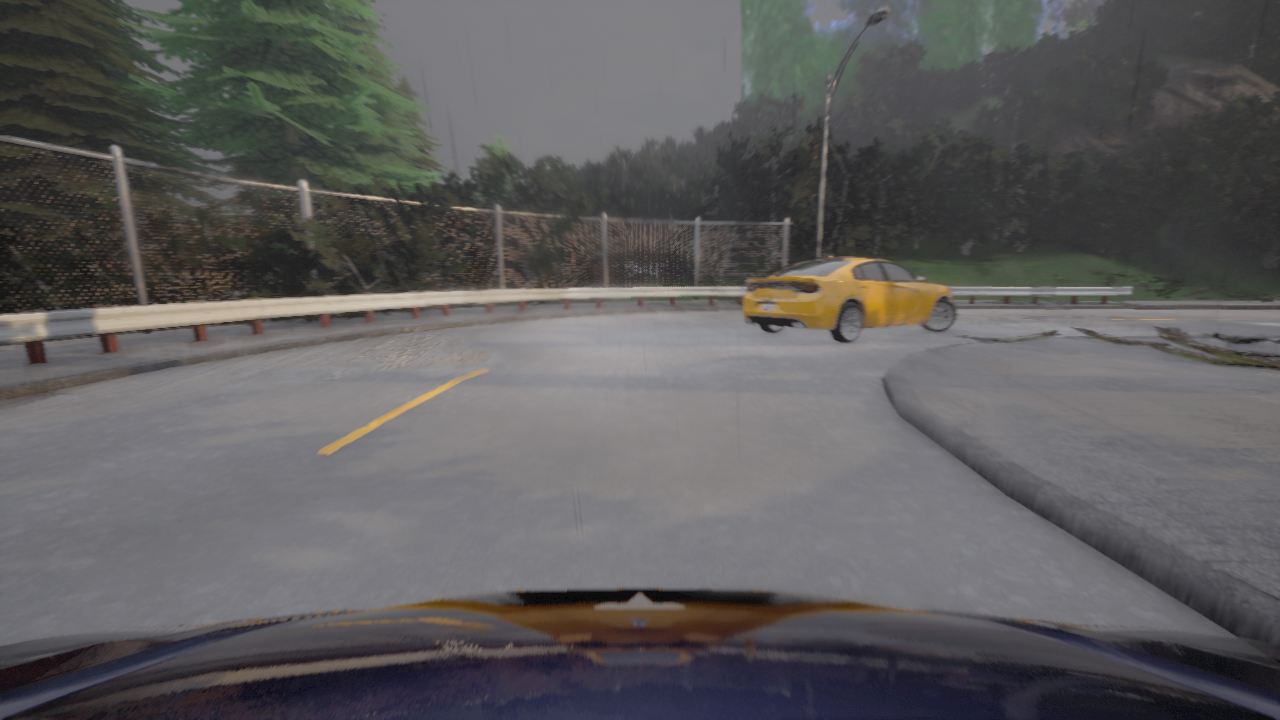cyclist: (0, 588, 1279, 719), (743, 255, 956, 343)
